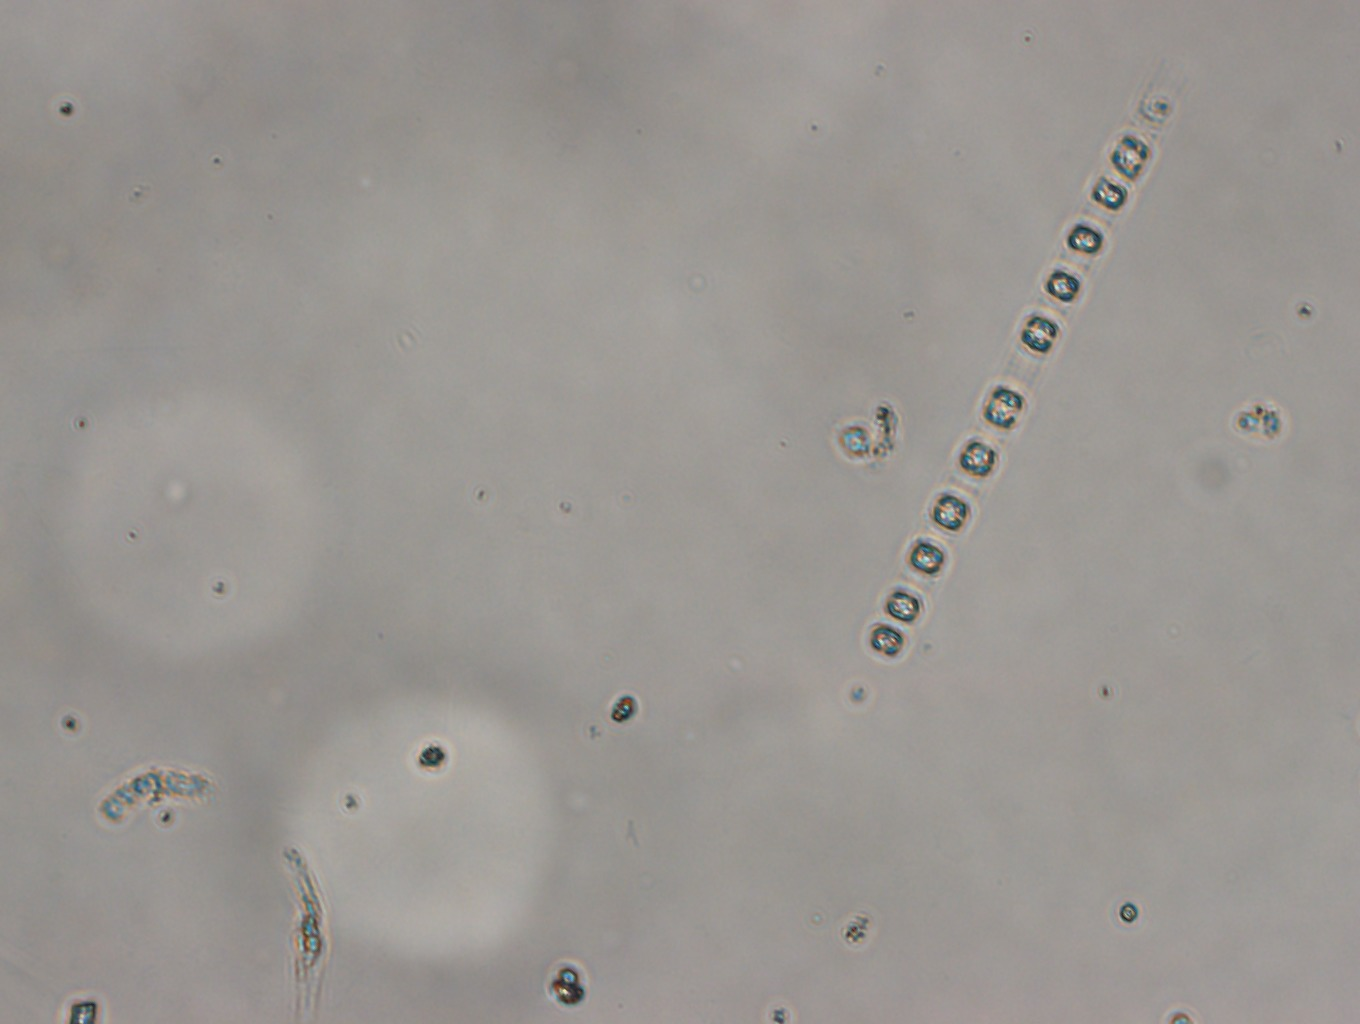skeletonema: (860, 81, 1194, 663)
